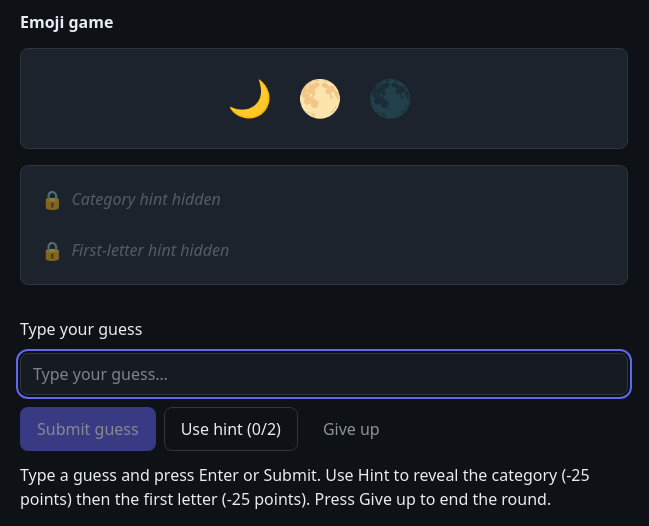
it: EmojiGame — hints › reveals the category on first hint use (-25)
This screenshot has width=649, height=526.
Click the button "Use hint (0/2)".
click(231, 429)  # box left=164, top=407, right=298, bottom=451
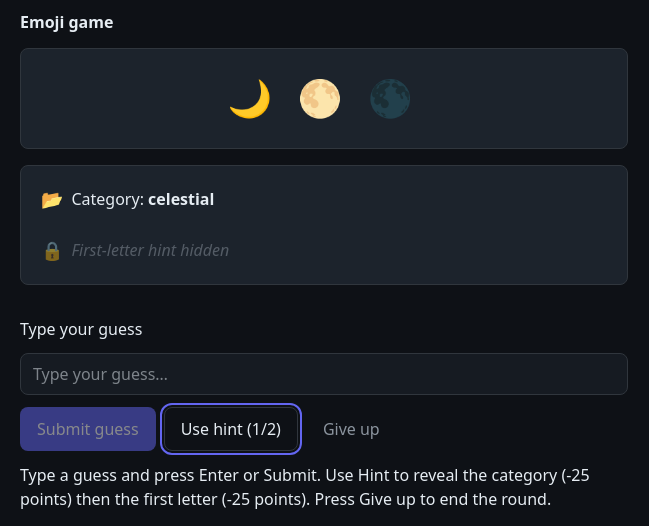
expect the text "First-letter hint hidden" is shown: met, box left=72, top=238, right=229, bottom=262
expect the text "celestial" is shown: met, box left=148, top=188, right=214, bottom=210
